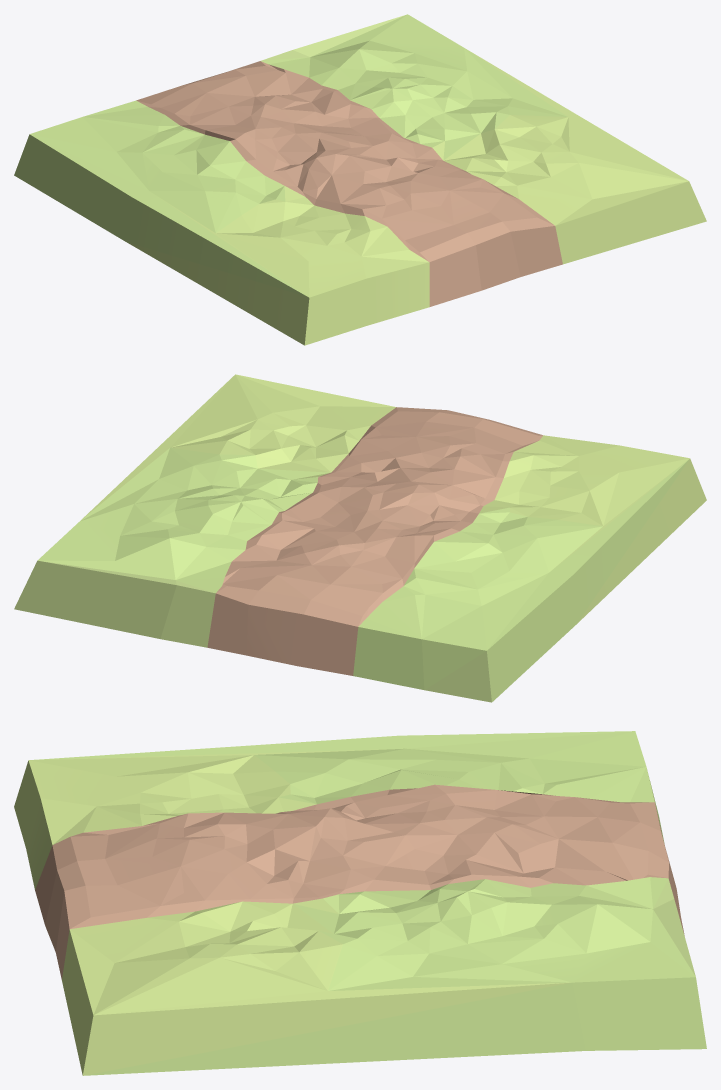
File: meadow_path_05.glb
3 renders of one model, top to bottom at view 1: azimuth 30°, elevation 25°; view 2: azimuth 150°, elevation 25°; view 3: azimuth 270°, elevation 25°, orthographic. The views are drawn at different scales.
Parts seen in each view (by area): view 1: PP_Meadow_Path_05.002; view 2: PP_Meadow_Path_05.002; view 3: PP_Meadow_Path_05.002.
Boxes of the visible parts, left/top/right/bottom form: PP_Meadow_Path_05.002: left=14, top=14, right=706, bottom=345; PP_Meadow_Path_05.002: left=14, top=374, right=706, bottom=702; PP_Meadow_Path_05.002: left=14, top=731, right=706, bottom=1075.
Size of the model in its own units: 8.83 by 1.18 by 8.73.
